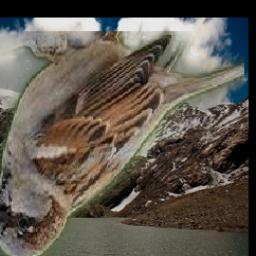Sparrow: (0, 32, 243, 256)
